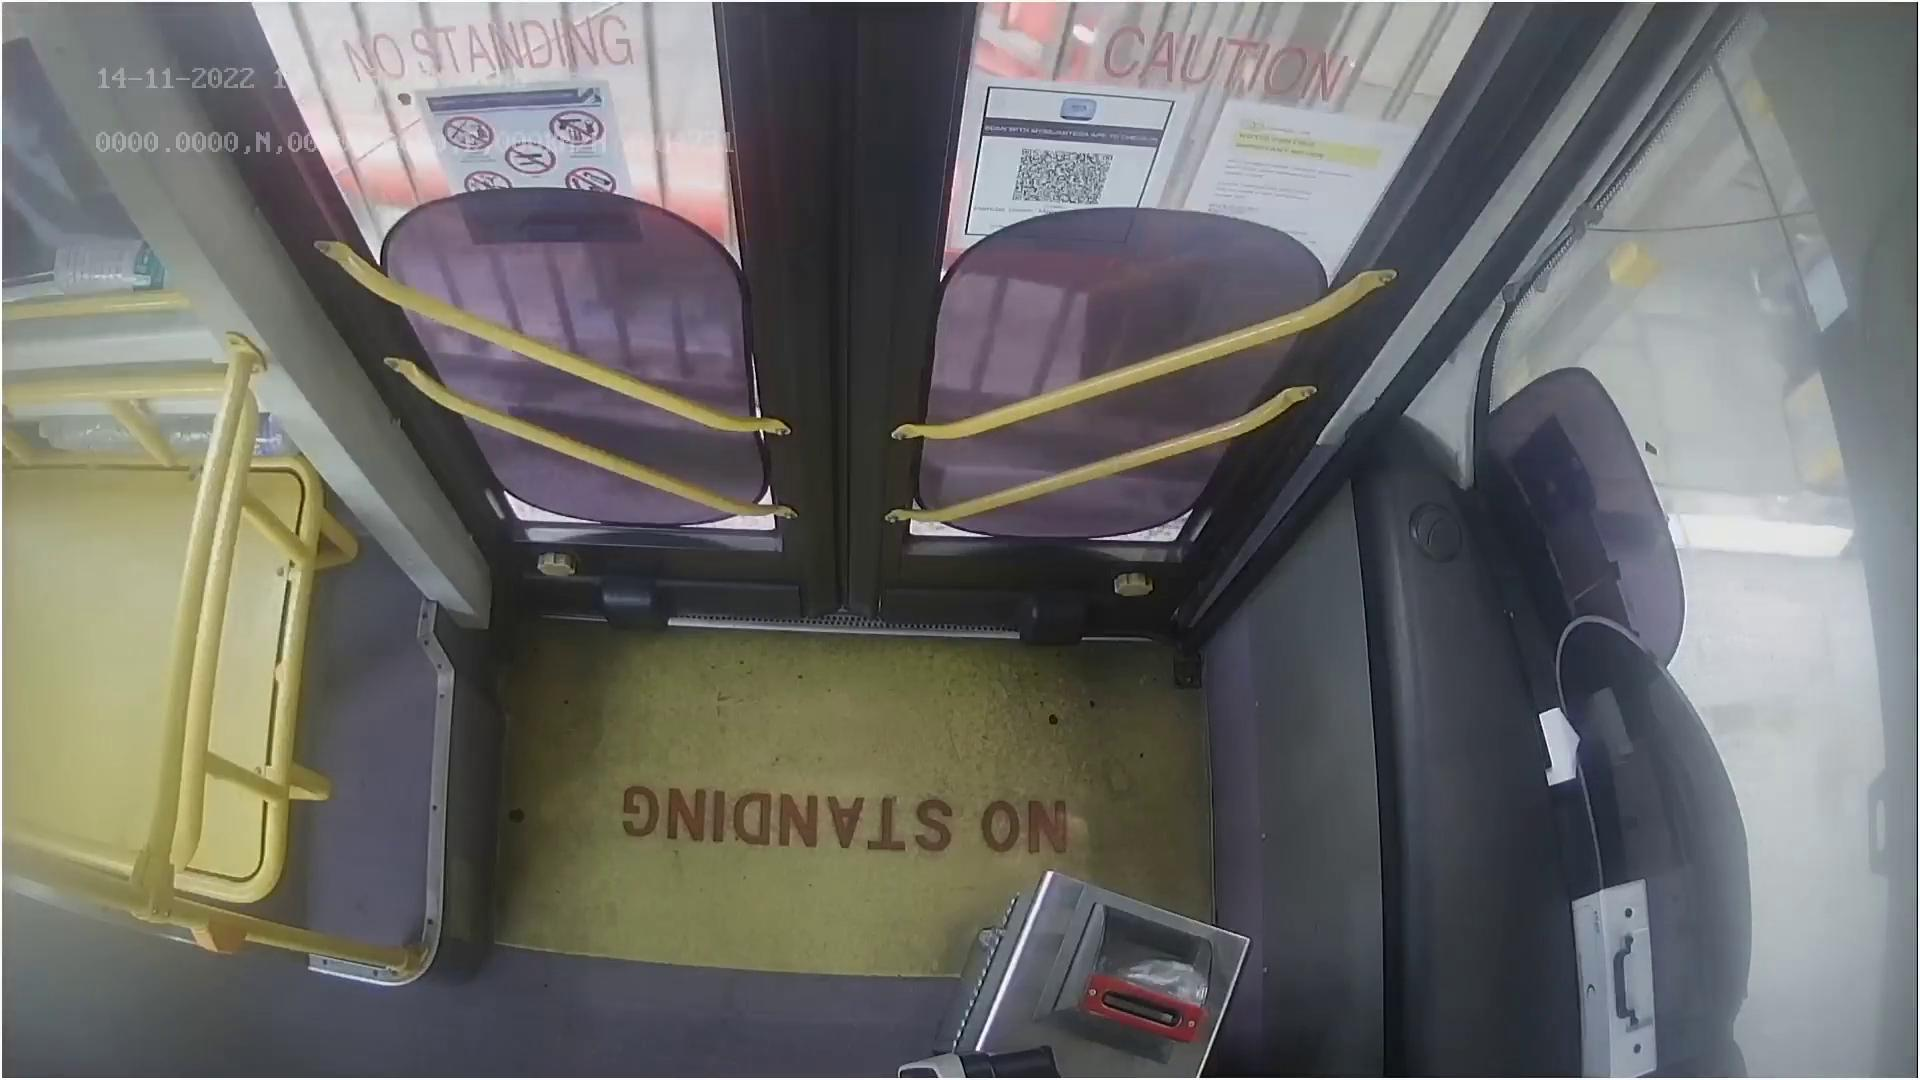close: (289, 0, 1447, 156)
